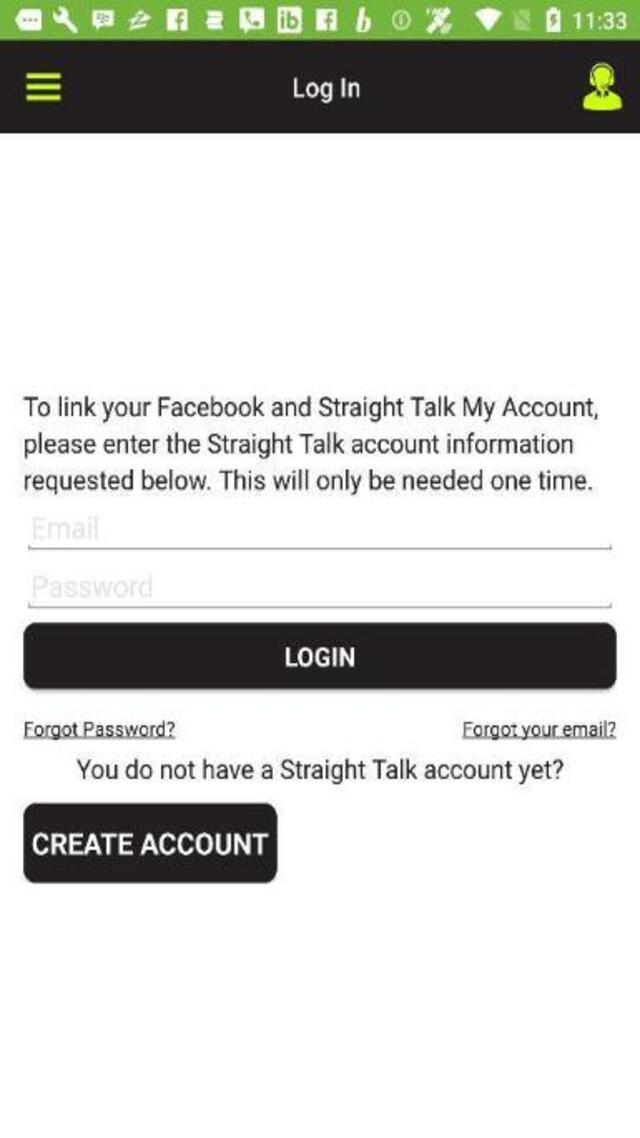Icon: (582, 63, 622, 111), (24, 73, 62, 101)
Text: (21, 393, 599, 426), (19, 429, 578, 463), (17, 467, 596, 499), (75, 758, 562, 782), (28, 827, 271, 858), (23, 718, 176, 740), (461, 719, 616, 739), (33, 574, 153, 596), (280, 641, 364, 670), (34, 514, 99, 539), (294, 78, 358, 103)
TextButton: (25, 623, 617, 689), (25, 803, 278, 883)
